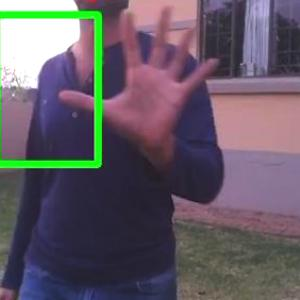follow_hand: (58, 1, 228, 151)
